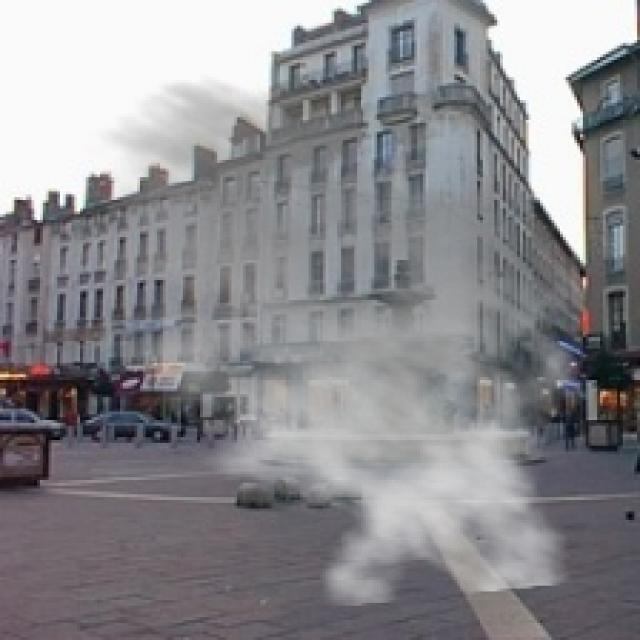smoke: (46, 74, 608, 609)
